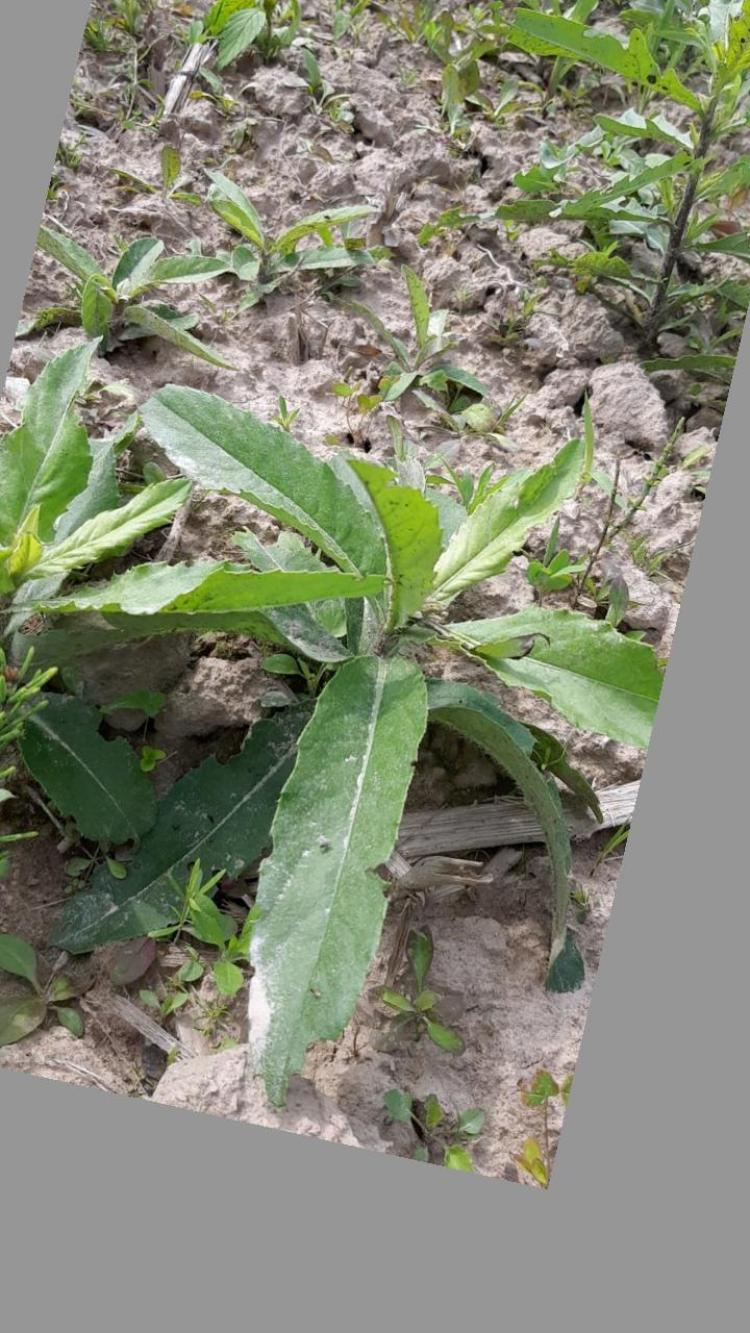osot: (114, 344, 668, 1139)
